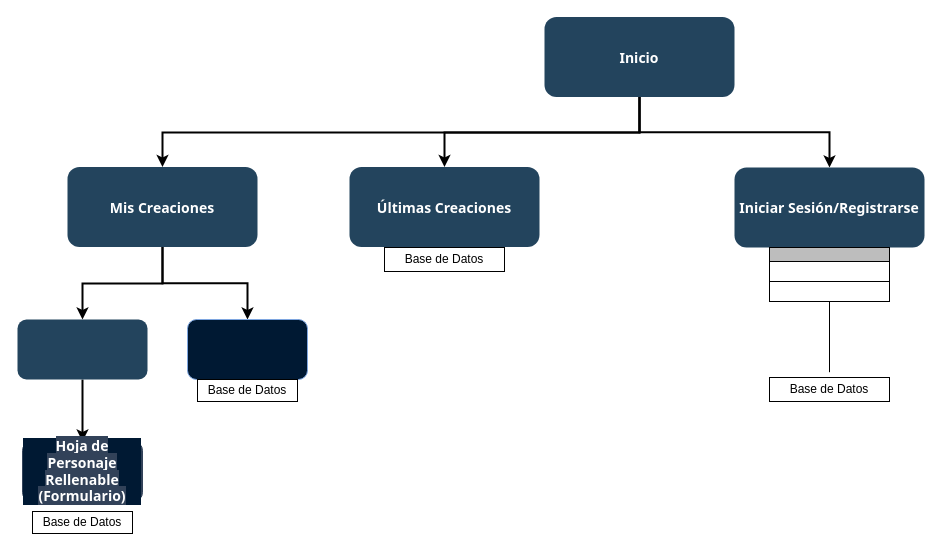
This 941x551 diagram has some shape labels left out. Each missing label, with the centre of its shape:
"Contraseña" goes at (x=829, y=291).
"Editar Creación" goes at (x=247, y=349).
"Formulario" goes at (x=829, y=254).
"Nueva Creación" goes at (x=82, y=349).
"Usuario" goes at (x=829, y=271).
